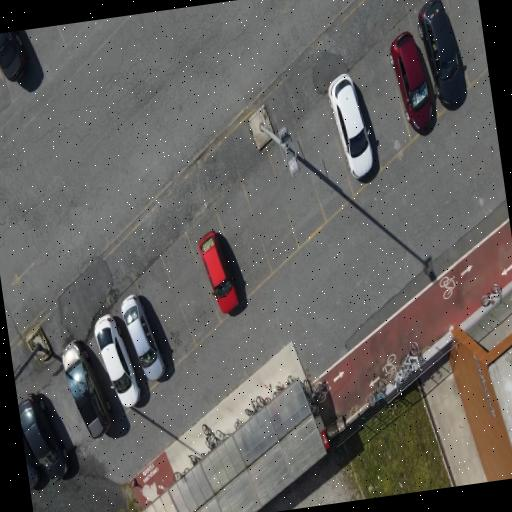car: (418, 0, 467, 109), (62, 340, 111, 437), (329, 74, 373, 178), (390, 31, 432, 133), (19, 394, 68, 479), (95, 314, 140, 406), (121, 294, 165, 380), (198, 231, 238, 312), (0, 31, 25, 80), (23, 435, 40, 489)
